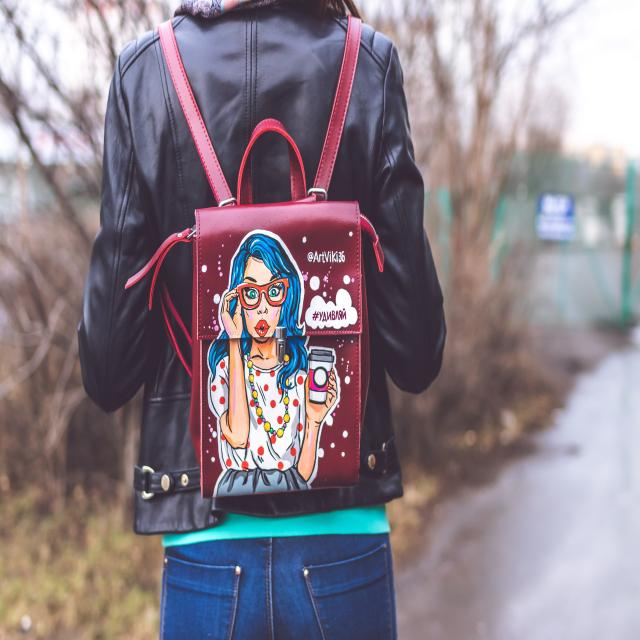backpack: (126, 18, 382, 495)
